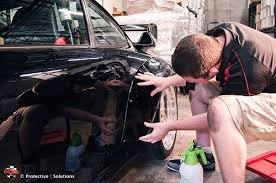Dent: (87, 57, 135, 84), (140, 59, 161, 79)
